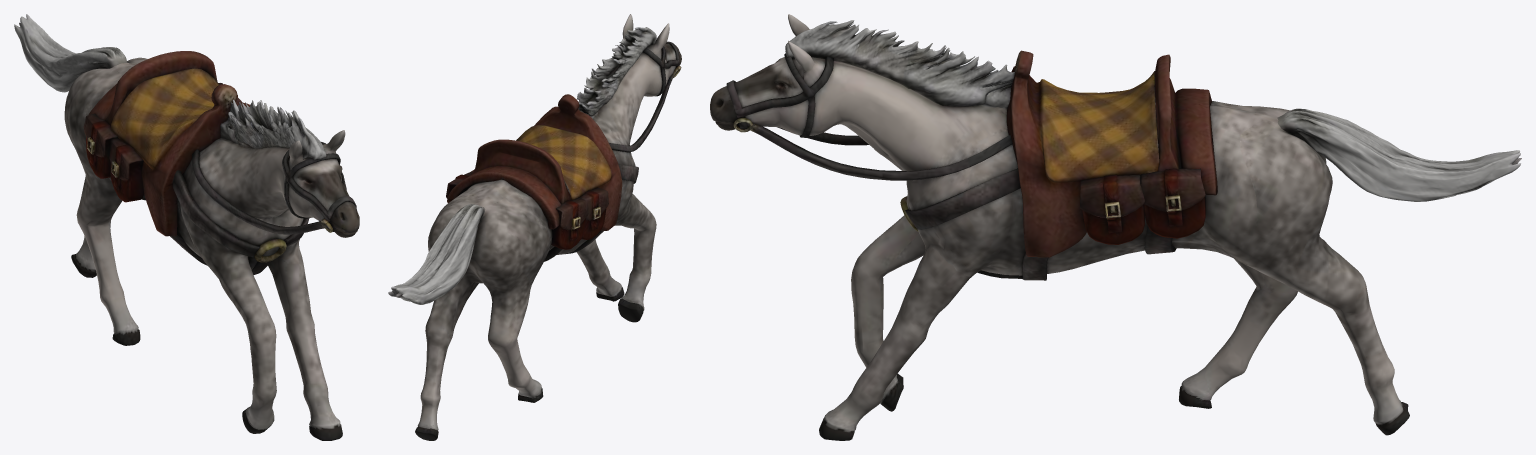
The model's file is MZ4250 - Warhorse Running_Appaloosa.glb.
3 views of the same model, side by side, from view 1: azimuth 30°, elevation 25°; view 2: azimuth 150°, elevation 25°; view 3: azimuth 270°, elevation 25° (orthographic). The views are drawn at different scales.
Visible parts, largest first — view 1: Warhorse running.001; view 2: Warhorse running.001; view 3: Warhorse running.001.
Boxes of the visible parts, x1,y1,x2,y2 form: Warhorse running.001: [14, 14, 359, 440]; Warhorse running.001: [388, 14, 681, 440]; Warhorse running.001: [710, 14, 1521, 440].
Bounding box in the file's own units: 18.25 × 38.98 × 71.12.
Materials: 1 (1 with a texture image).
